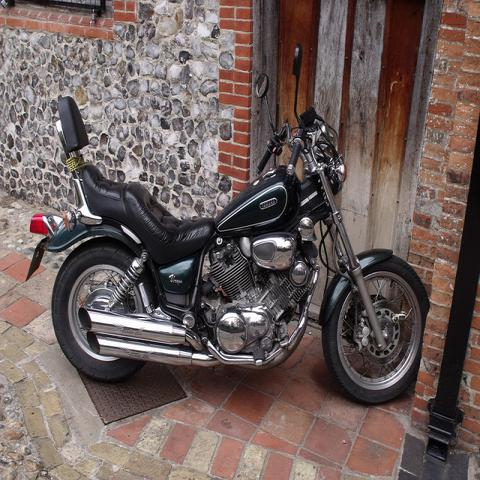motorcycle: (25, 40, 430, 408)
